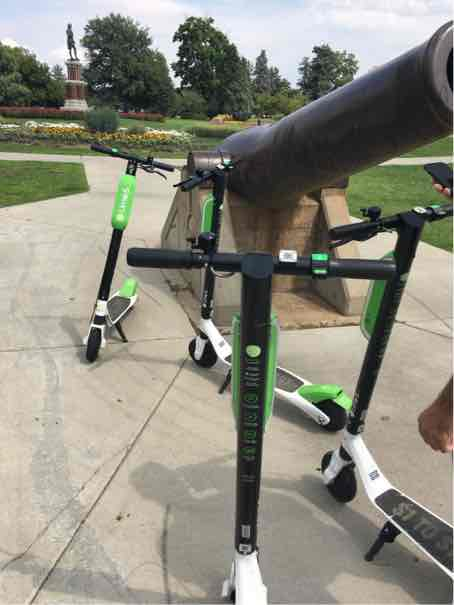scooter: (166, 155, 265, 397), (68, 148, 168, 364)
